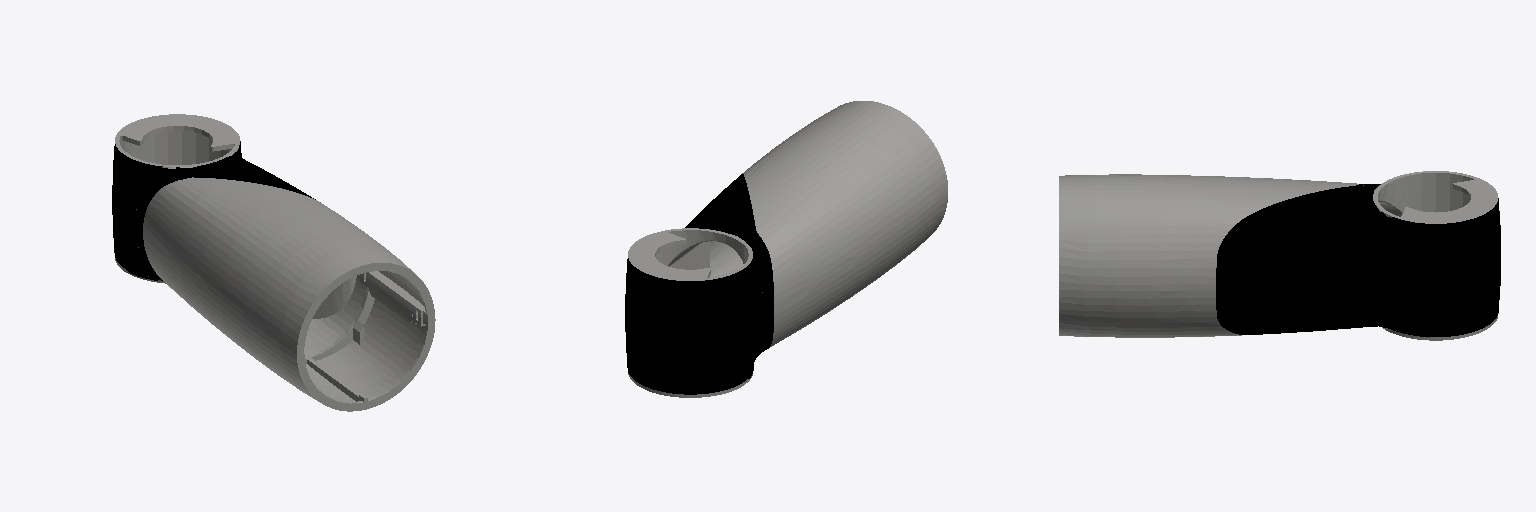
3 views of the same model, side by side, from view 1: azimuth 30°, elevation 25°; view 2: azimuth 150°, elevation 25°; view 3: azimuth 270°, elevation 25° (orthographic).
Parts seen in each view (by area): view 1: right_arm_link3; view 2: right_arm_link3; view 3: right_arm_link3.
Boxes of the visible parts, <box> form: right_arm_link3: <box>112,114,435,411</box>; right_arm_link3: <box>625,101,947,397</box>; right_arm_link3: <box>1059,171,1500,340</box>.
Size of the model in its own units: 0.0953 by 0.0924 by 0.2539.
Materials: 1 (1 with a texture image).